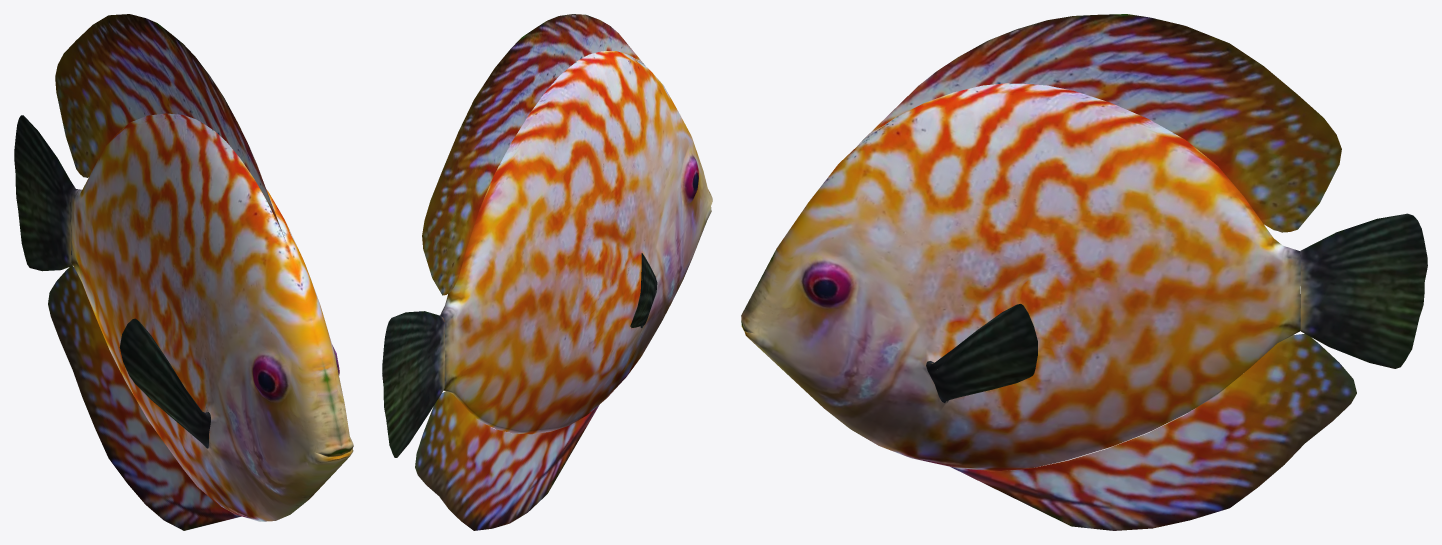
File: fishoo.glb
The picture shows the model from 3 angles, left to right: view 1: azimuth 30°, elevation 25°; view 2: azimuth 150°, elevation 25°; view 3: azimuth 270°, elevation 25°; orthographic projection. The views are drawn at different scales.
Visible parts, largest first — view 1: fish_1; view 2: fish_1; view 3: fish_1.
Part boxes in pixels (x1,y1,x2,y2): fish_1: (14, 14, 353, 530); fish_1: (382, 14, 712, 530); fish_1: (741, 14, 1427, 530).
Bounding box in the file's own units: 1.17 × 3.44 × 4.14.
Materials: 1 (1 with a texture image).
